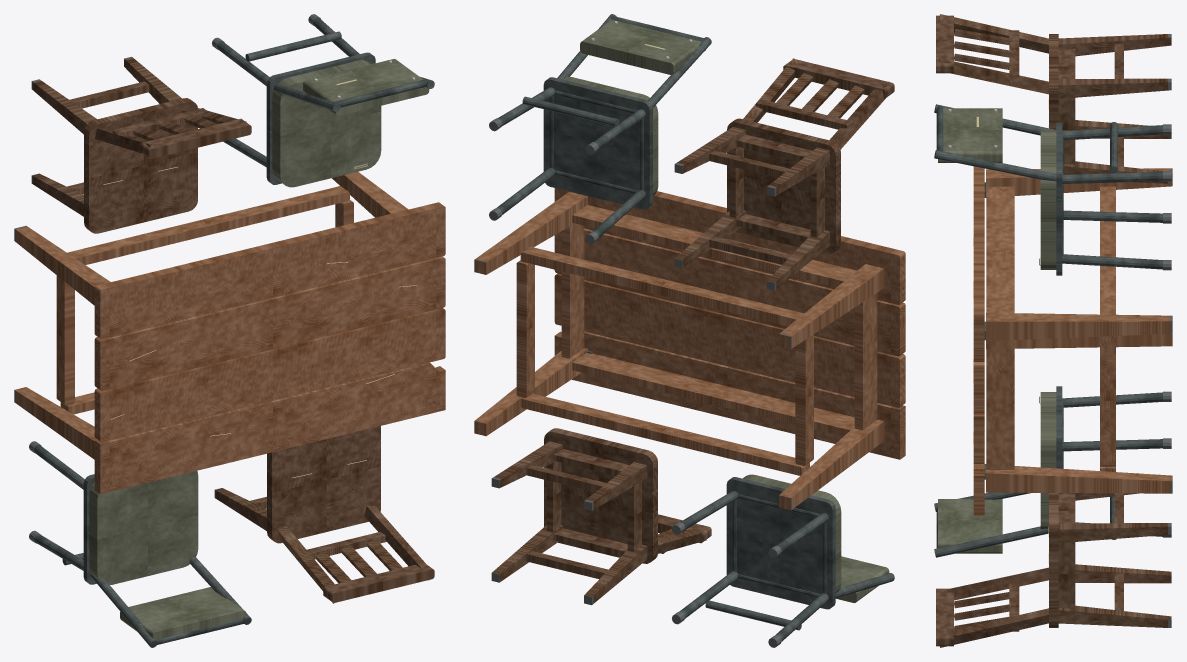
File: PZ_Dining_4_Seat_Inspection_Assembly.glb
3 views of the same model, side by side, from view 1: azimuth 30°, elevation 25°; view 2: azimuth 150°, elevation 25°; view 3: azimuth 270°, elevation 25° (orthographic).
Parts seen in each view (by area): view 1: GEO_Table__TOP_Plank_01_Outer_North, GEO_Table__TOP_Plank_02_Upper, GEO_Table__TOP_Plank_03_Lower, GEO_Table__TOP_Plank_04_ChippedCorner, GEO_Chair_Wood_South__SEAT_SaddleShapedWood, GEO_Chair_Wood_North__SEAT_SaddleShapedWood, GEO_Chair_Metal_South__SEAT_CushionFadedVinyl, GEO_Chair_Metal_North__SEAT_CushionFadedVinyl, GEO_Table__STRETCHER_Long_Rear, GEO_Chair_Metal_South__BACK_PaddedVinylPanel, GEO_Chair_Metal_North__BACK_PaddedVinylPanel, GEO_Table__LEG_OakTaper_L_B (+22 smaller); view 2: GEO_Table__TOP_Plank_03_Lower, GEO_Table__TOP_Plank_02_Upper, GEO_Chair_Metal_South__SEAT_UnderseatSteelPan, GEO_Chair_Metal_North__SEAT_UnderseatSteelPan, GEO_Table__TOP_Plank_04_ChippedCorner, GEO_Chair_Wood_South__SEAT_SaddleShapedWood, GEO_Chair_Wood_North__SEAT_SaddleShapedWood, GEO_Table__TOP_Plank_01_Outer_North, GEO_Table__APRON_LongRail_Front, GEO_Table__STRETCHER_Long_Front, GEO_Table__STRETCHER_Long_Rear, GEO_Table__APRON_LongRail_Rear (+45 smaller); view 3: GEO_Table__LEG_OakTaper_R_B, GEO_Table__LEG_OakTaper_R_F, GEO_Table__APRON_ShortRail_Right, GEO_Table__APRON_LongRail_Rear, GEO_Chair_Metal_North__BACK_PaddedVinylPanel, GEO_Chair_Metal_South__BACK_PaddedVinylPanel, GEO_Table__TOP_Plank_01_Outer_North, GEO_Chair_Metal_North__SEAT_CushionFadedVinyl, GEO_Table__STRETCHER_Short_Right, GEO_Chair_Wood_North__LEGS_TaperedWood_R_B, GEO_Table__LEG_OakTaper_L_B, GEO_Chair_Wood_South__LEGS_TaperedWood_L_F (+45 smaller).
Boxes of the visible parts, x1,y1,x2,y2 form: GEO_Table__TOP_Plank_01_Outer_North: [94, 202, 445, 339]; GEO_Table__TOP_Plank_02_Upper: [94, 256, 445, 390]; GEO_Table__TOP_Plank_03_Lower: [94, 308, 445, 442]; GEO_Table__TOP_Plank_04_ChippedCorner: [94, 362, 445, 494]; GEO_Chair_Wood_South__SEAT_SaddleShapedWood: [267, 426, 380, 543]; GEO_Chair_Wood_North__SEAT_SaddleShapedWood: [84, 98, 197, 233]; GEO_Chair_Metal_South__SEAT_CushionFadedVinyl: [89, 471, 198, 584]; GEO_Chair_Metal_North__SEAT_CushionFadedVinyl: [272, 60, 381, 187]; GEO_Table__STRETCHER_Long_Rear: [67, 186, 349, 264]; GEO_Chair_Metal_South__BACK_PaddedVinylPanel: [120, 587, 246, 639]; GEO_Chair_Metal_North__BACK_PaddedVinylPanel: [303, 59, 429, 115]; GEO_Table__LEG_OakTaper_L_B: [15, 226, 110, 305]; GEO_Table__TOP_Plank_03_Lower: [554, 273, 905, 407]; GEO_Table__TOP_Plank_02_Upper: [554, 228, 905, 356]; GEO_Chair_Metal_South__SEAT_UnderseatSteelPan: [726, 477, 835, 609]; GEO_Chair_Metal_North__SEAT_UnderseatSteelPan: [543, 77, 652, 209]; GEO_Table__TOP_Plank_04_ChippedCorner: [554, 331, 905, 459]; GEO_Chair_Wood_South__SEAT_SaddleShapedWood: [544, 428, 657, 563]; GEO_Chair_Wood_North__SEAT_SaddleShapedWood: [727, 118, 840, 254]; GEO_Table__TOP_Plank_01_Outer_North: [554, 188, 905, 304]; GEO_Table__APRON_LongRail_Front: [572, 353, 854, 436]; GEO_Table__STRETCHER_Long_Front: [520, 393, 809, 475]; GEO_Table__STRETCHER_Long_Rear: [520, 246, 803, 326]; GEO_Table__APRON_LongRail_Rear: [572, 205, 856, 287]; GEO_Table__LEG_OakTaper_R_B: [986, 312, 1170, 341]; GEO_Table__LEG_OakTaper_R_F: [986, 464, 1172, 493]; GEO_Table__APRON_ShortRail_Right: [986, 340, 1014, 469]; GEO_Table__APRON_LongRail_Rear: [986, 186, 1014, 313]; GEO_Chair_Metal_North__BACK_PaddedVinylPanel: [938, 108, 1002, 162]; GEO_Chair_Metal_South__BACK_PaddedVinylPanel: [938, 499, 1002, 553]; GEO_Table__TOP_Plank_01_Outer_North: [973, 166, 984, 361]; GEO_Chair_Metal_North__SEAT_CushionFadedVinyl: [1040, 130, 1056, 269]; GEO_Table__STRETCHER_Short_Right: [1100, 336, 1115, 466]; GEO_Chair_Wood_North__LEGS_TaperedWood_R_B: [1058, 78, 1168, 98]; GEO_Table__LEG_OakTaper_L_B: [986, 168, 1172, 195]; GEO_Chair_Wood_South__LEGS_TaperedWood_L_F: [1058, 523, 1168, 543].
Bounding box in the file's own units: 1.51 × 2.1 × 0.9107.
9 materials, 5 textured.
